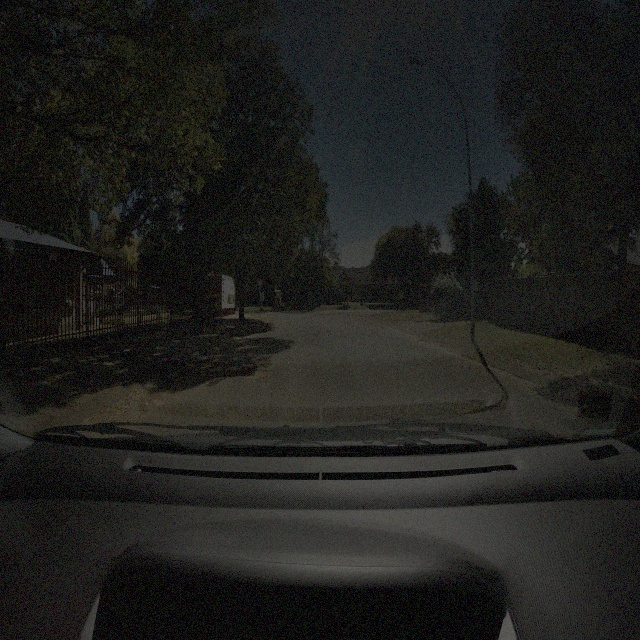pothole: (244, 363, 275, 382)
